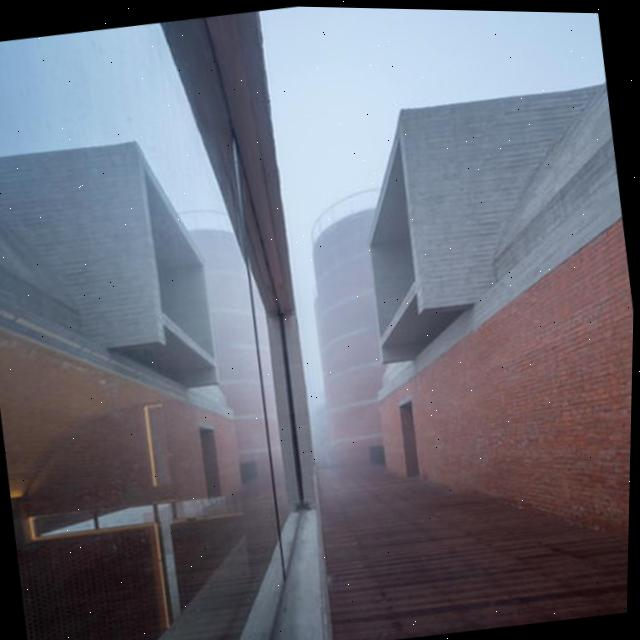building: (0, 5, 351, 640), (283, 74, 639, 626)
